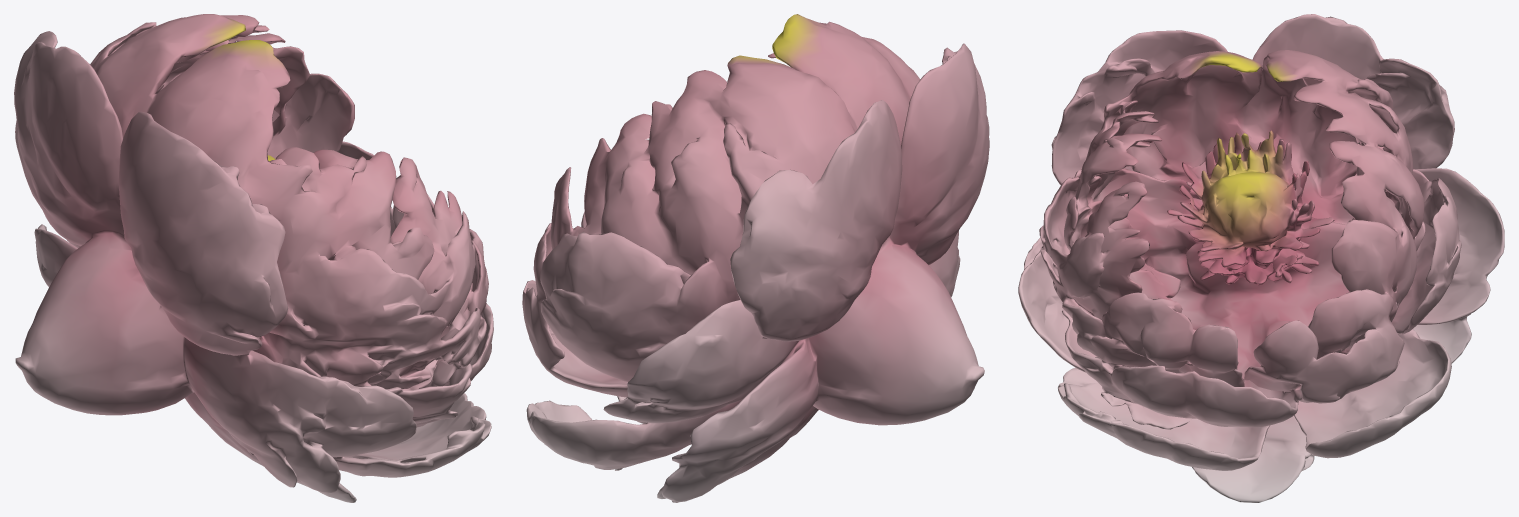
File: peony_pink.glb
The picture shows the model from 3 angles, left to right: view 1: azimuth 30°, elevation 25°; view 2: azimuth 150°, elevation 25°; view 3: azimuth 270°, elevation 25°; orthographic projection. The views are drawn at different scales.
Visible parts, largest first — view 1: node0; view 2: node0; view 3: node0.
Part boxes in pixels (x1,y1,x2,y2): node0: (14,14,493,502); node0: (522,14,989,502); node0: (1018,14,1504,502).
Size of the model in its own units: 0.7886 by 0.8738 by 0.9496.
